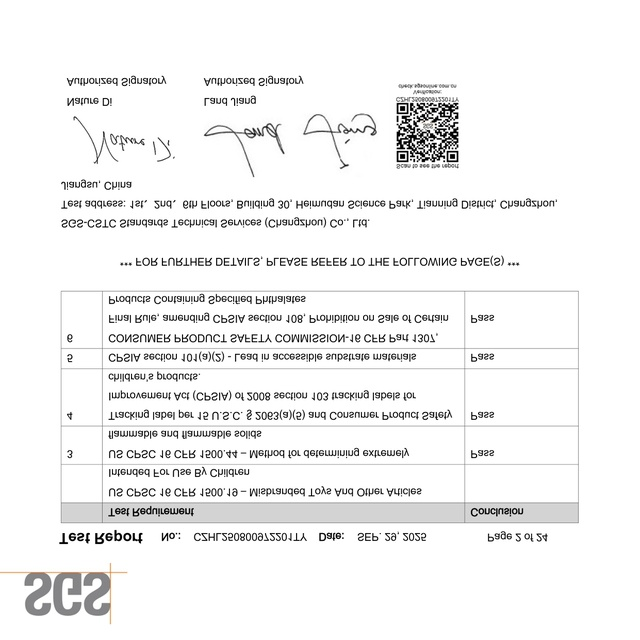sgs: (25, 572, 111, 615)
